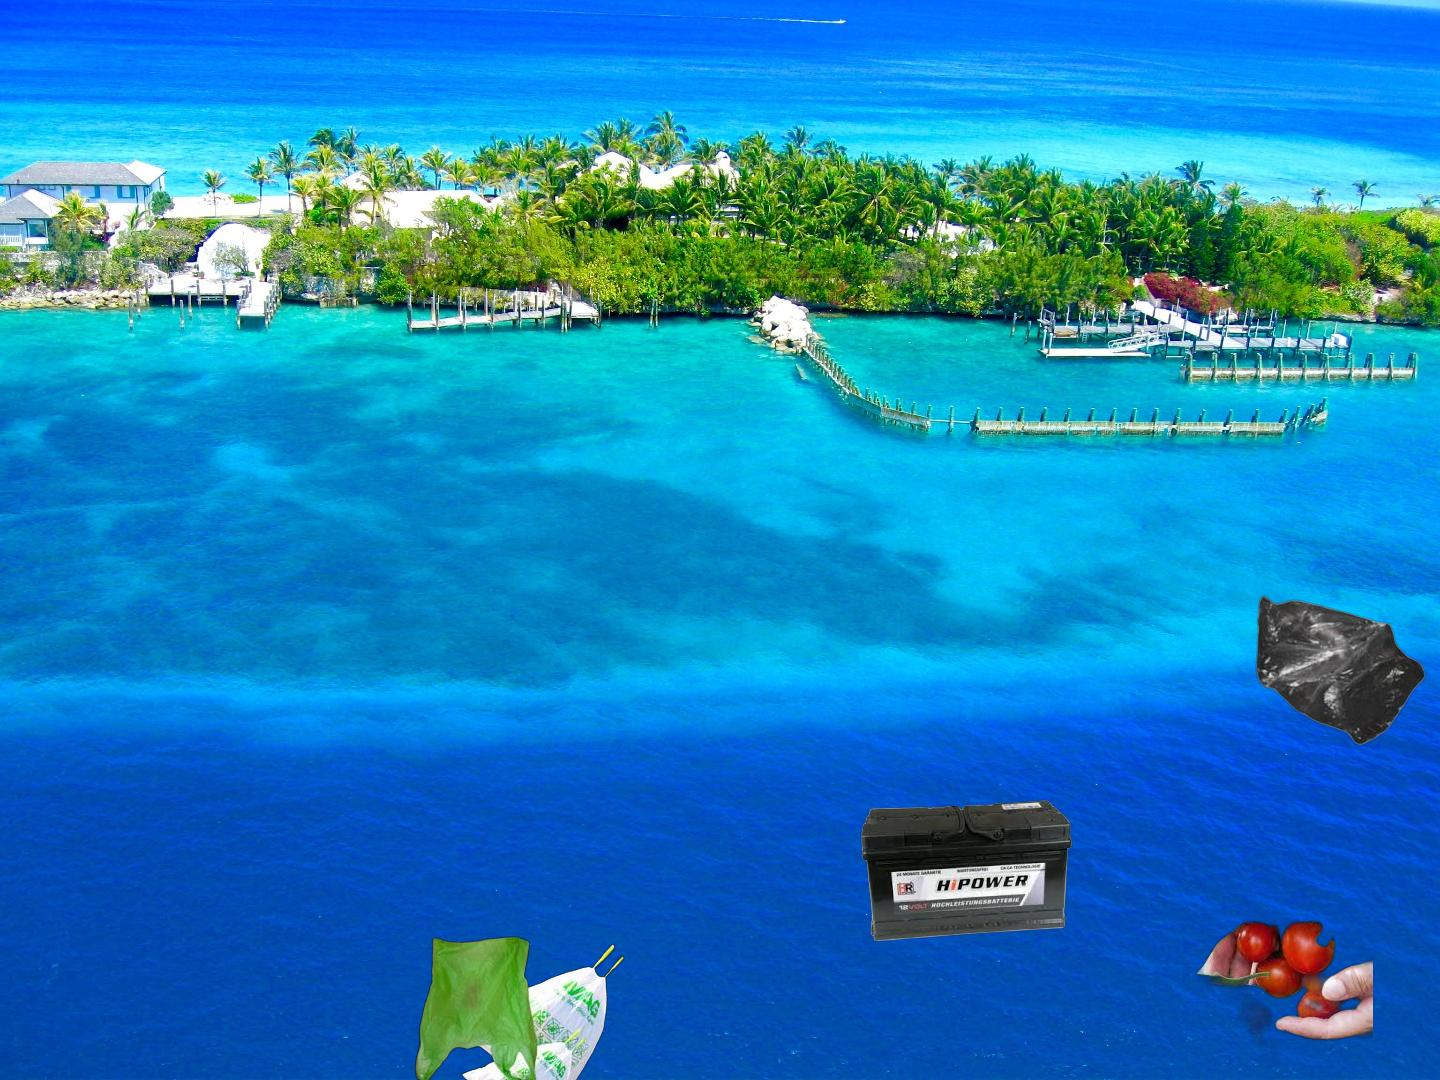battery: (858, 798, 1075, 944)
biological: (1181, 836, 1373, 1080)
plastic-bag: (412, 934, 627, 1080), (1253, 594, 1426, 746)
trashbox-cardboard: (367, 750, 1162, 1080)
